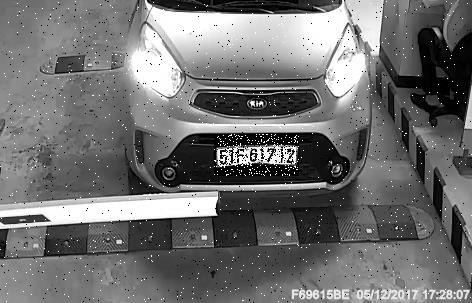License-plate: (215, 135, 300, 177)
